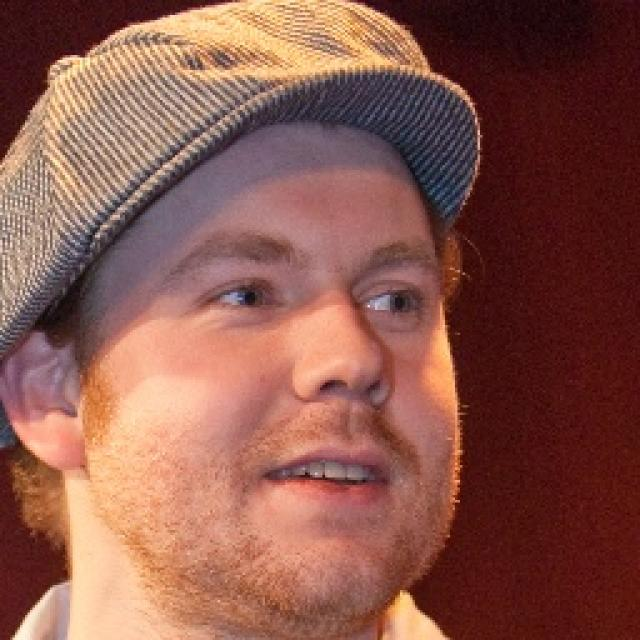earlobe: (42, 411, 87, 473)
eye: (363, 285, 430, 325), (202, 280, 279, 314)
nose: (296, 379, 391, 443)
wholeear: (2, 322, 86, 473)
